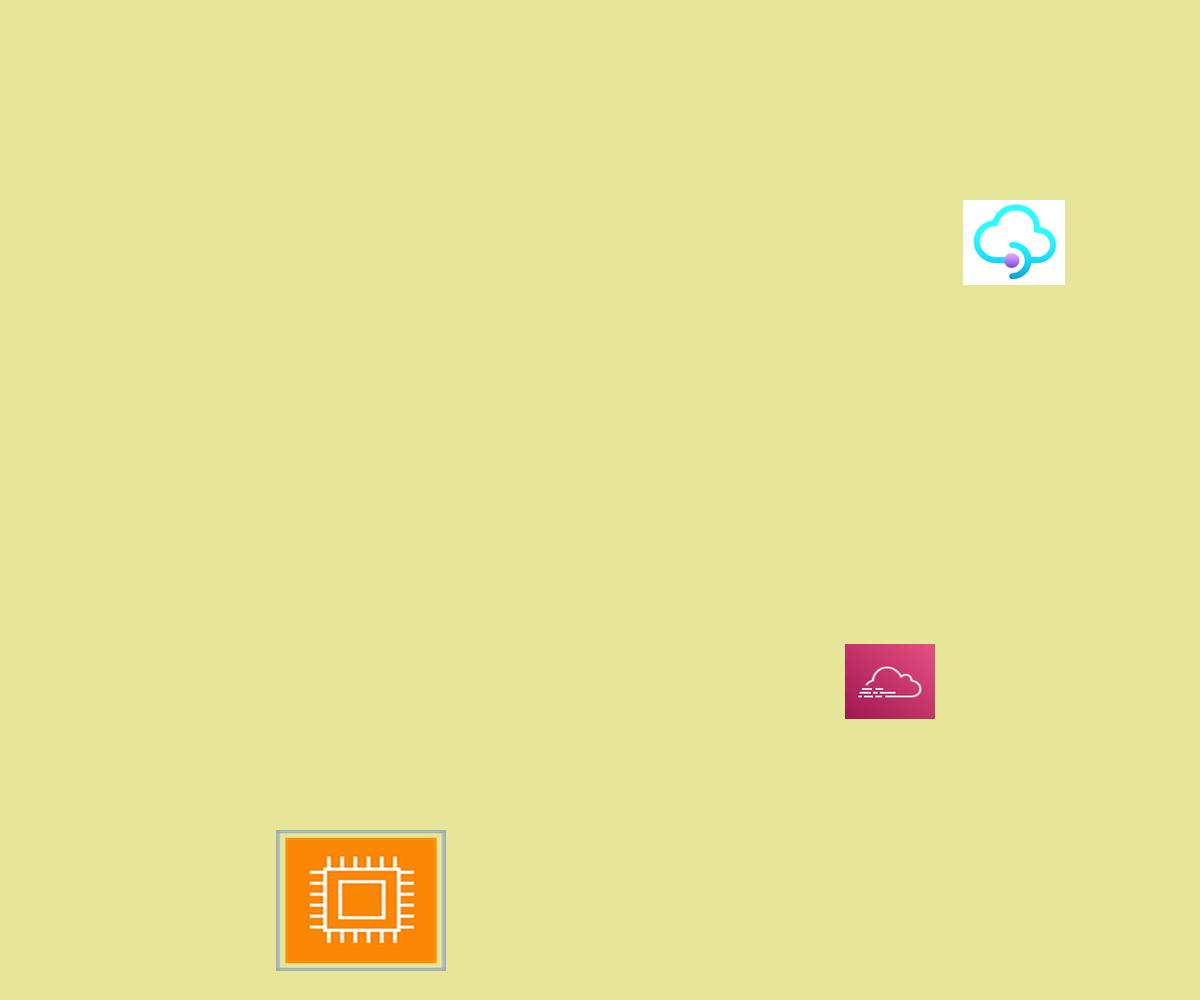AWS-Category_Compute: (276, 830, 446, 971)
AWS-CloudTrail: (845, 644, 935, 719)
Azure_api_gateway: (963, 200, 1065, 285)
